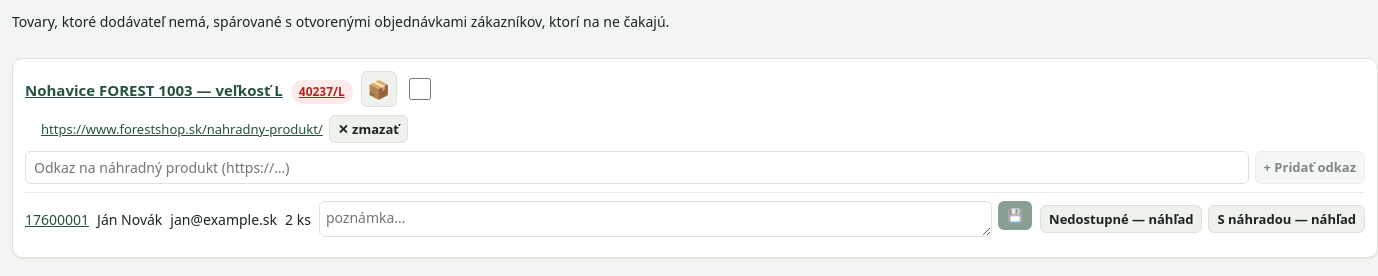
Test: manazer zmaže ručný odkaz náhrady — zoznam sa znova načíta bez neho
Click the button with test id "nedostupne-replacement-link-remove-link-1". click: (368, 129)
box: [329, 115, 408, 143]
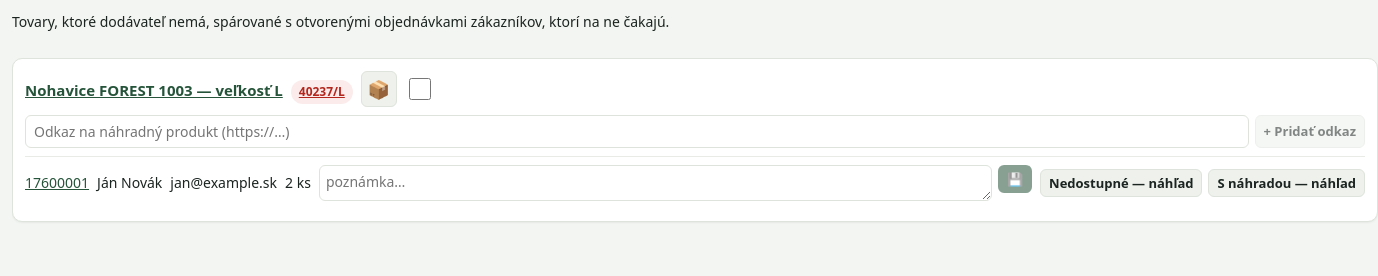
Result: the link "https://www.forestshop.sk/nahradny-produkt/" is gone
